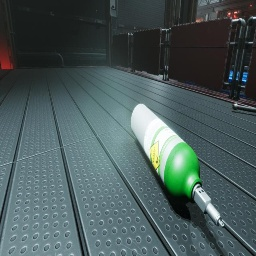0: (131, 104, 224, 228)
FireExtinguisher ]: (248, 66, 249, 68)
